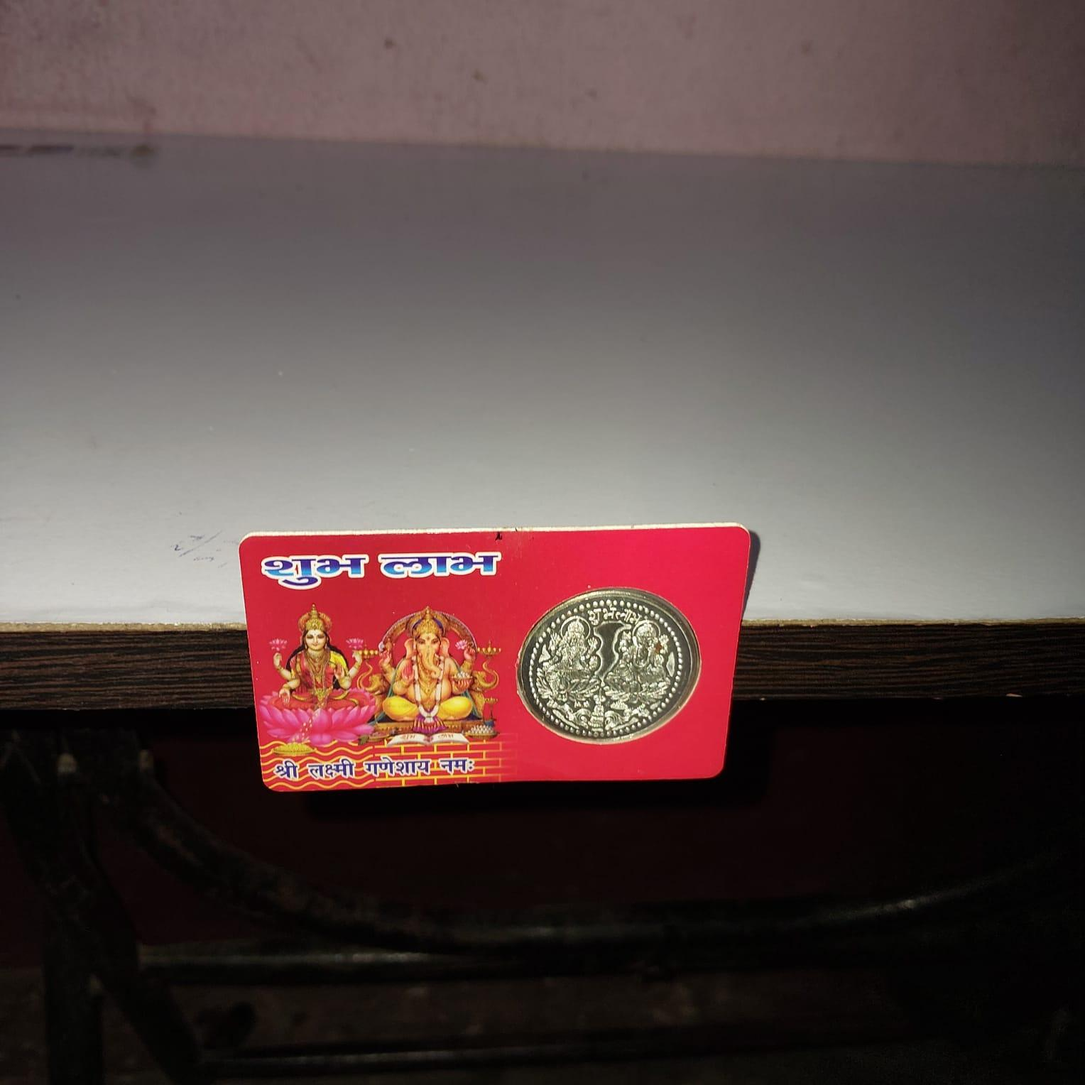blessing_card: (237, 522, 755, 800)
